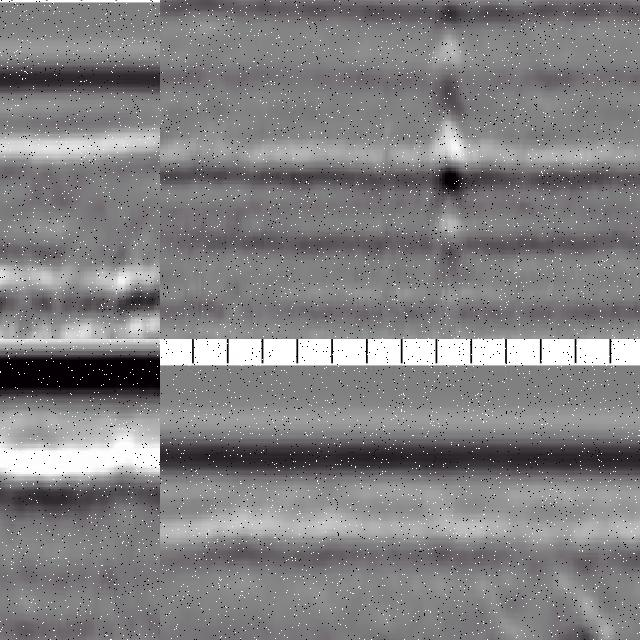crack: (426, 1, 473, 312)
loose: (1, 205, 128, 340), (335, 591, 629, 640)
